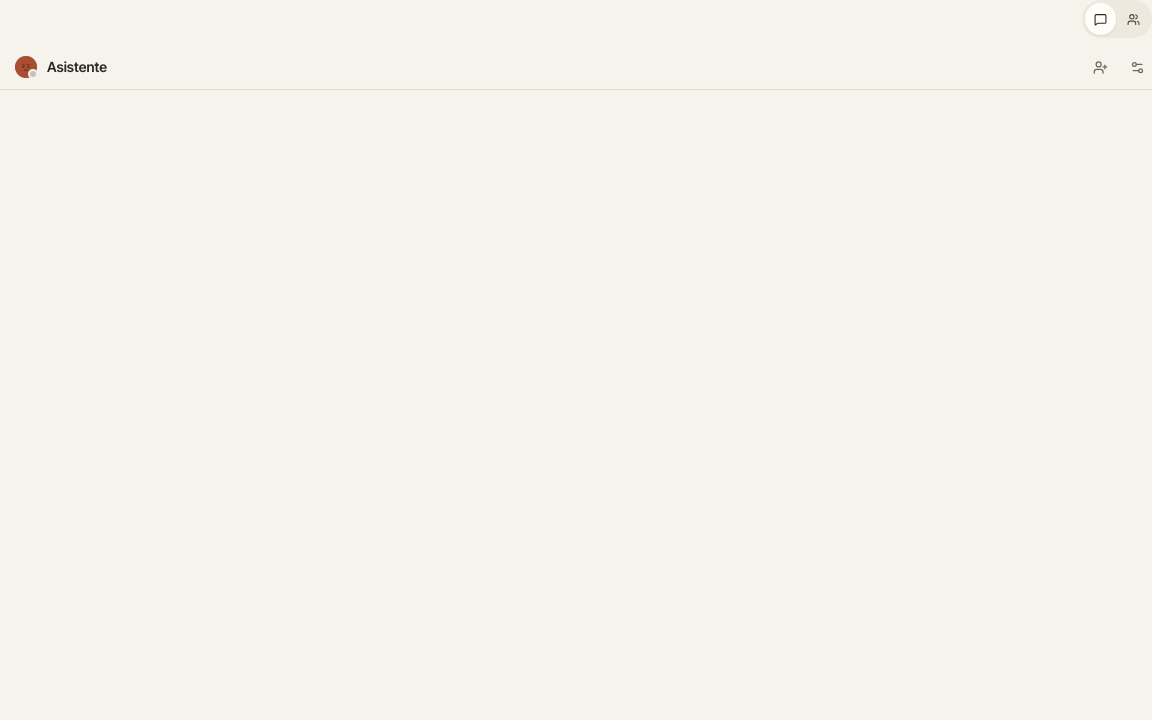
Test case: D8: sumar un rol abre el mismo dialogo desde los dos lados › en el modo Equipo, la fila abre el picker de roles
Click the button with class "team-rail-team". click: click(1134, 19)
box: x1=1118 y1=3 x2=1149 y2=35
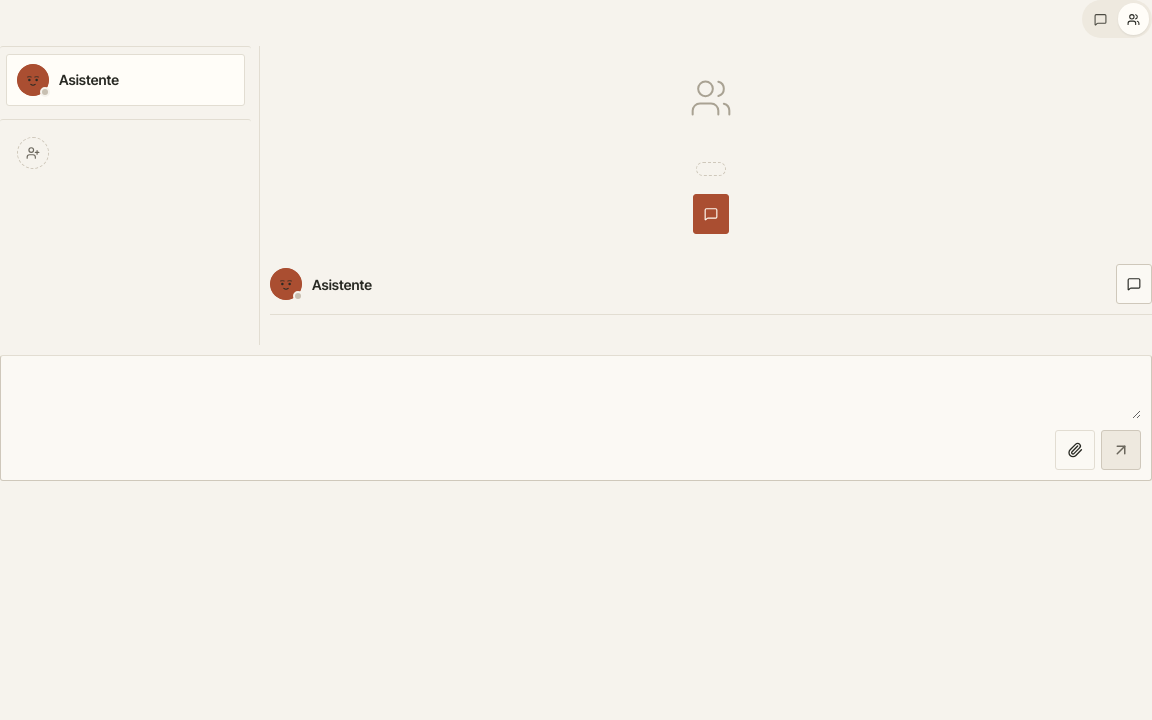
Result: the button with class "coord-add" is shown
Click the button with class "coord-add". click: click(126, 153)
box: x1=6 y1=127 x2=245 y2=179
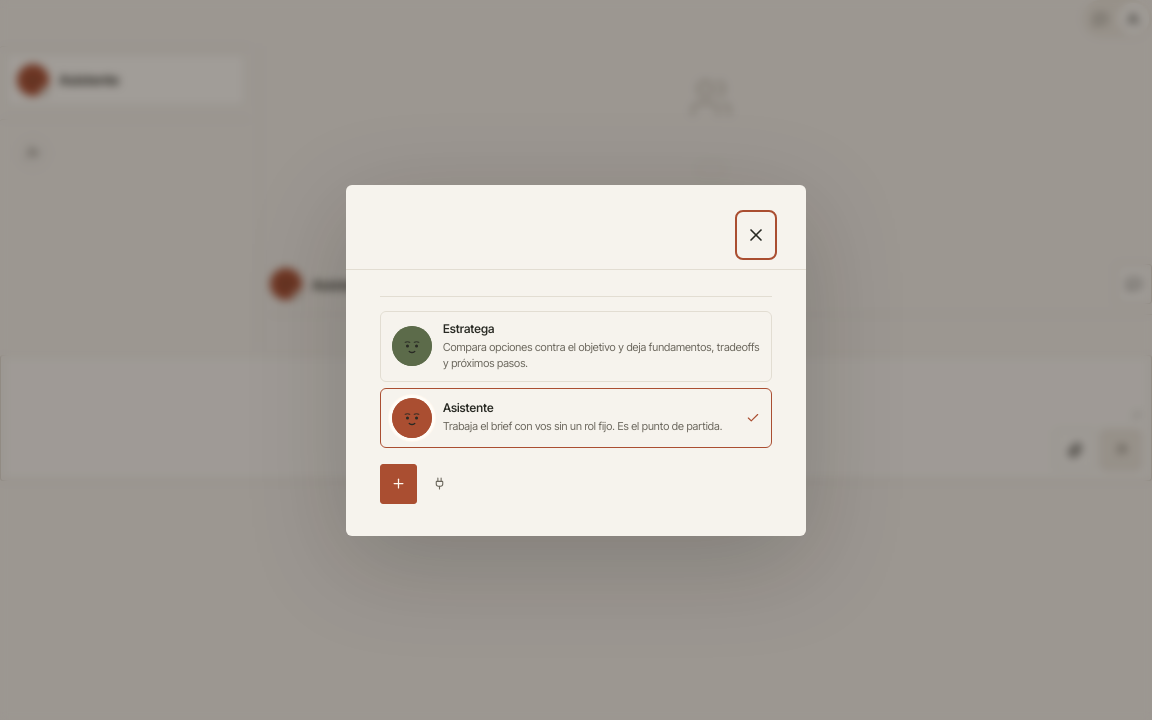
Result: the dialog is shown at x1=346 y1=184 x2=806 y2=536
